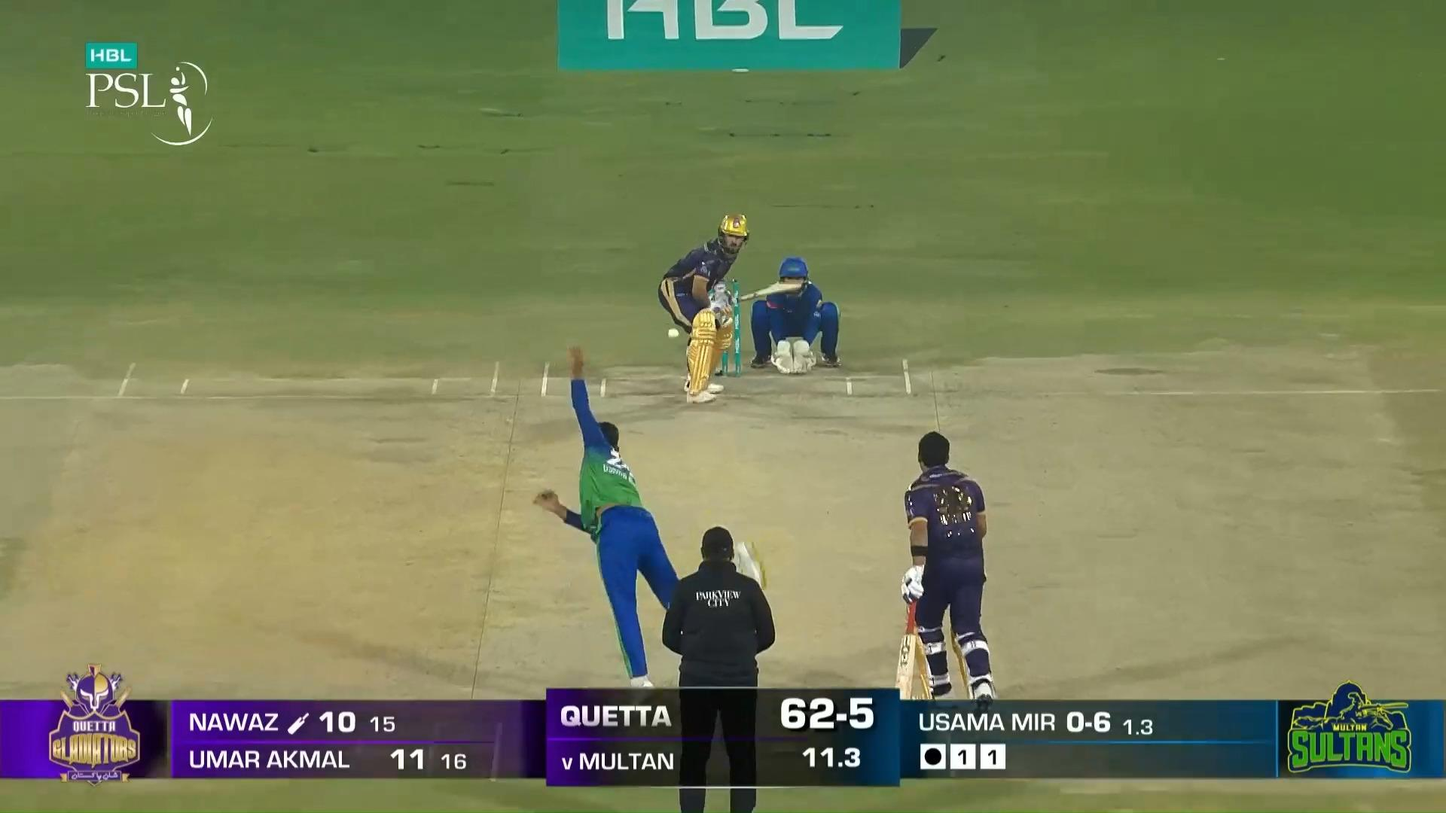batsman: (658, 213, 750, 405)
